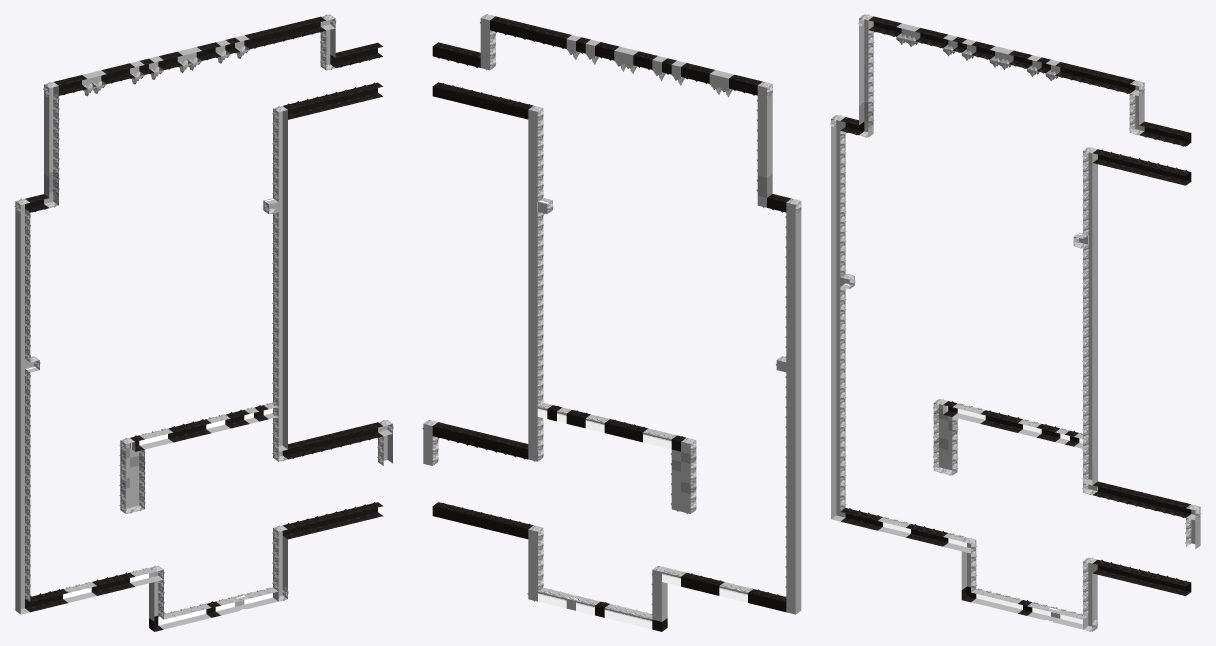
The model's file is Cubi_Room2.fbx.
The picture shows the model from 3 angles, left to right: view 1: azimuth 30°, elevation 25°; view 2: azimuth 150°, elevation 25°; view 3: azimuth 330°, elevation 25°; orthographic projection. The views are drawn at different scales.
Visible parts, largest first — view 1: Cubes_Room2; view 2: Cubes_Room2; view 3: Cubes_Room2.
Part boxes in pixels (bbox=[...]): Cubes_Room2: bbox=[14, 14, 393, 631]; Cubes_Room2: bbox=[422, 14, 801, 631]; Cubes_Room2: bbox=[830, 14, 1201, 631].
Bounding box in the file's own units: 3945 × 5744 × 100.
